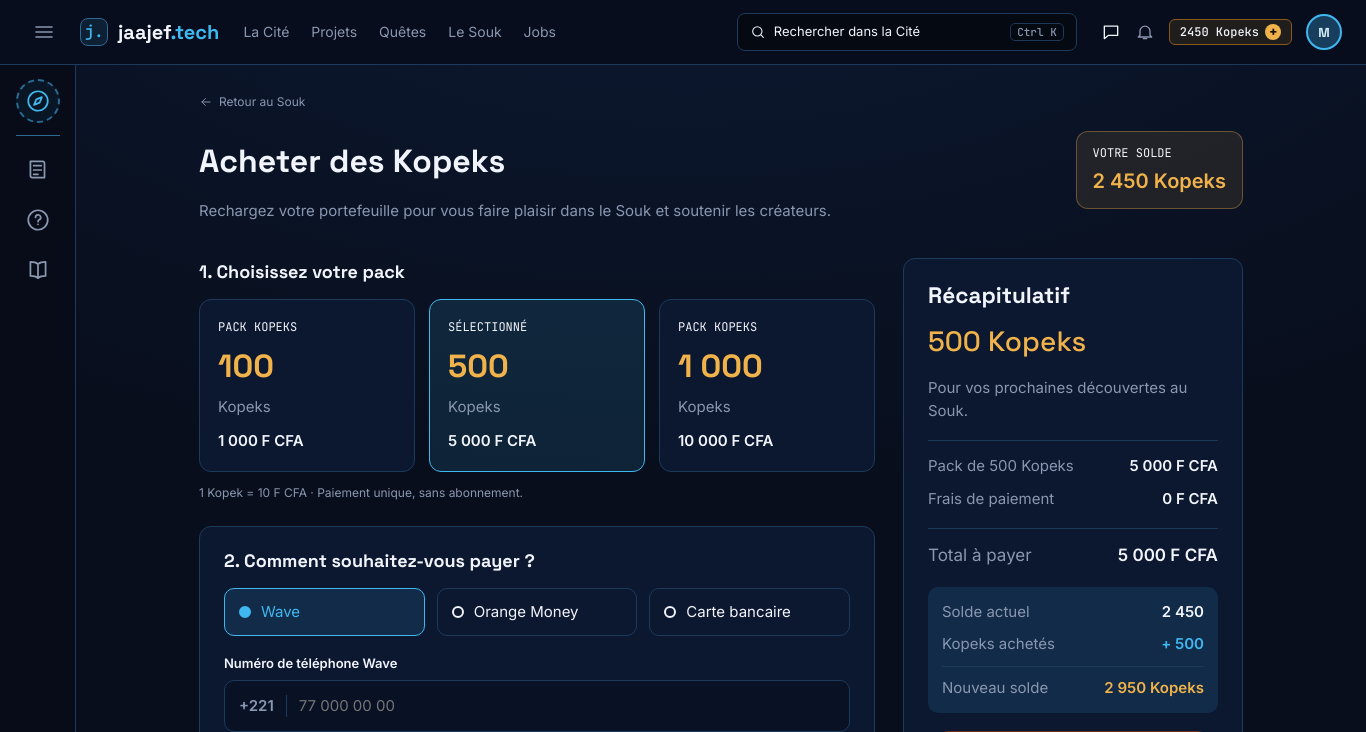
Test case: Payment not set up › names the missing settings so they can be fixed
Click the radio button labelled "Carte bancaire" at (750, 612), box [649,588,850,636]
(page scrolled)
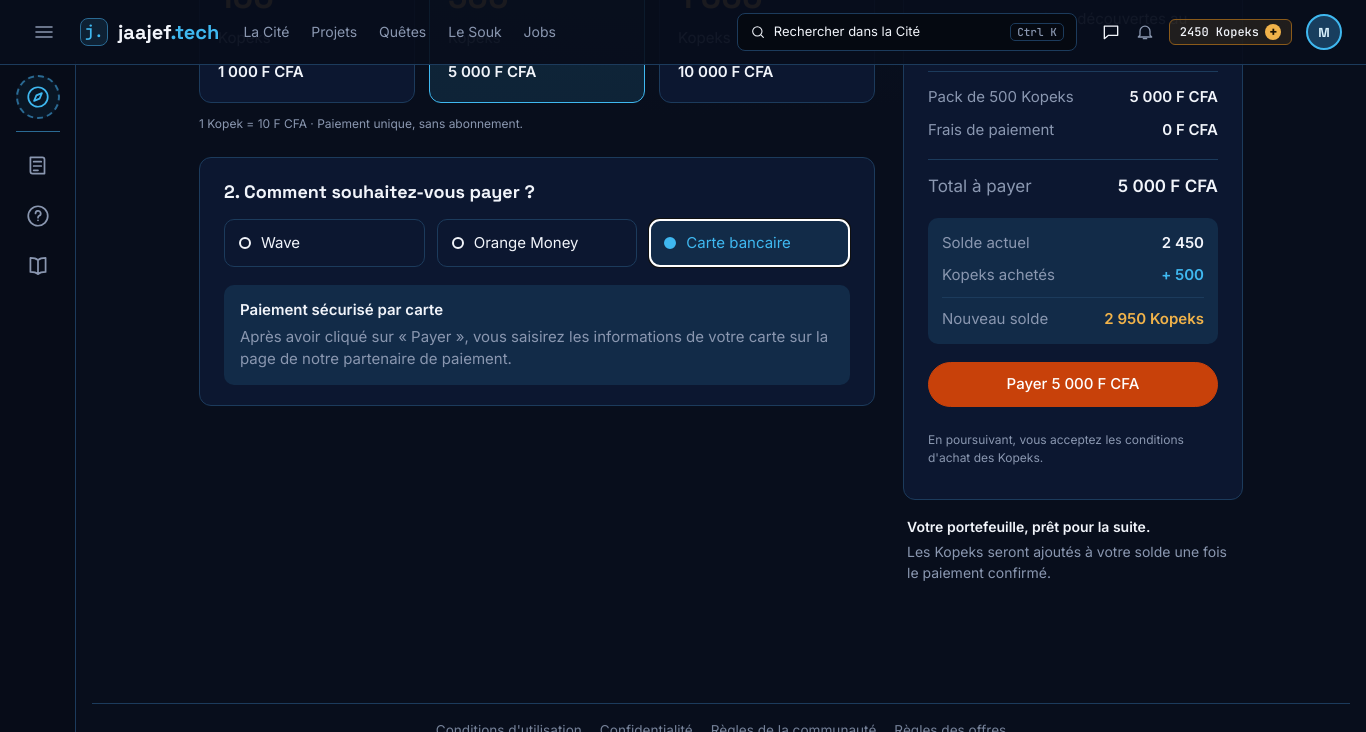
Click the button "Payer 5 000 F CFA" at (1073, 385), box [928,362,1218,407]
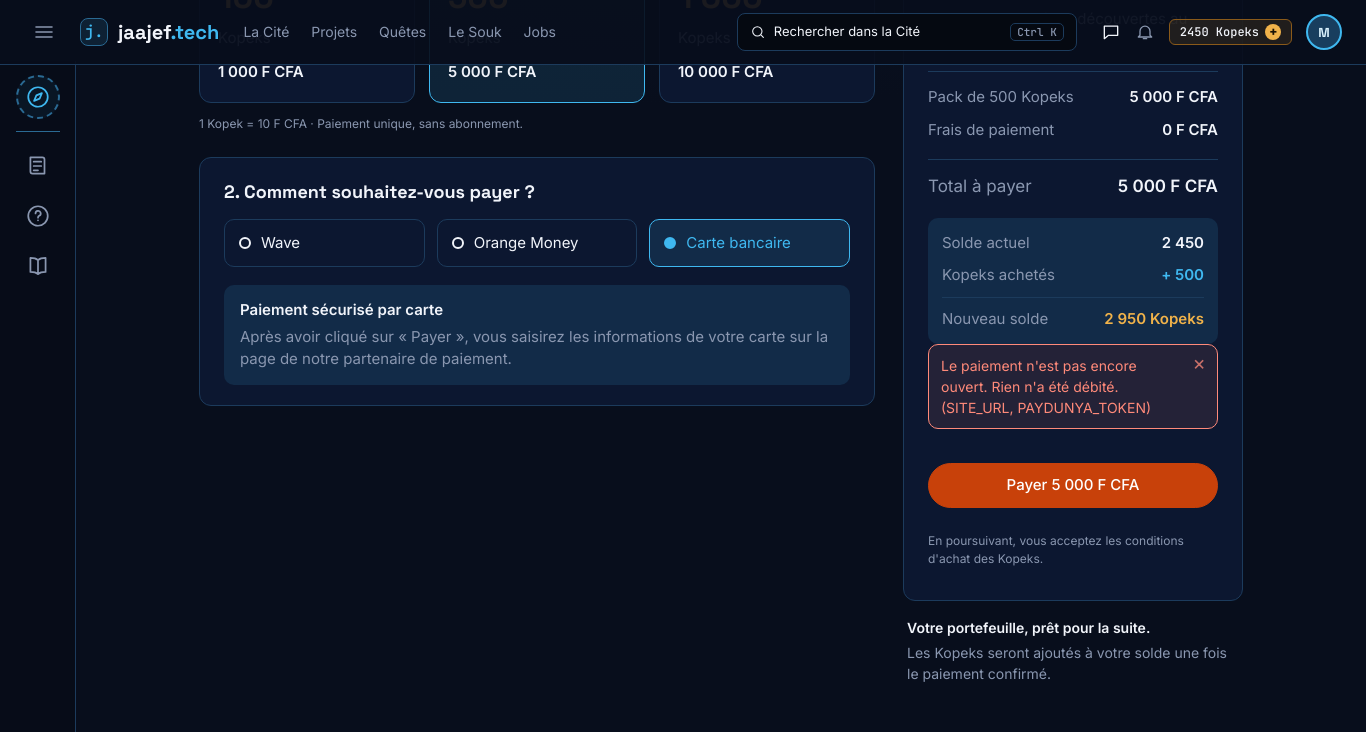
Expected: the message shows "SITE_URL, PAYDUNYA_TOKEN", [941,357,1151,416]
